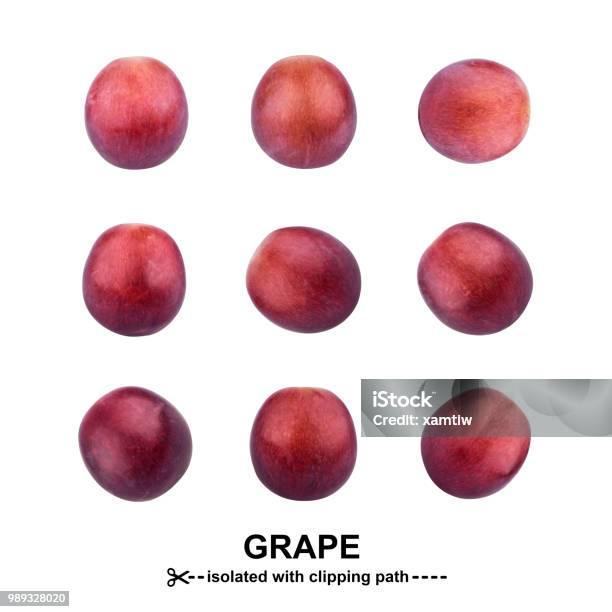grapes: (68, 40, 219, 187)
